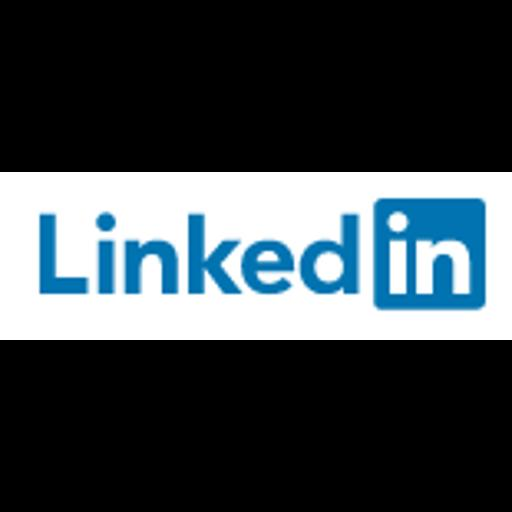LinkedIn Corporation: (0, 172, 512, 340)
